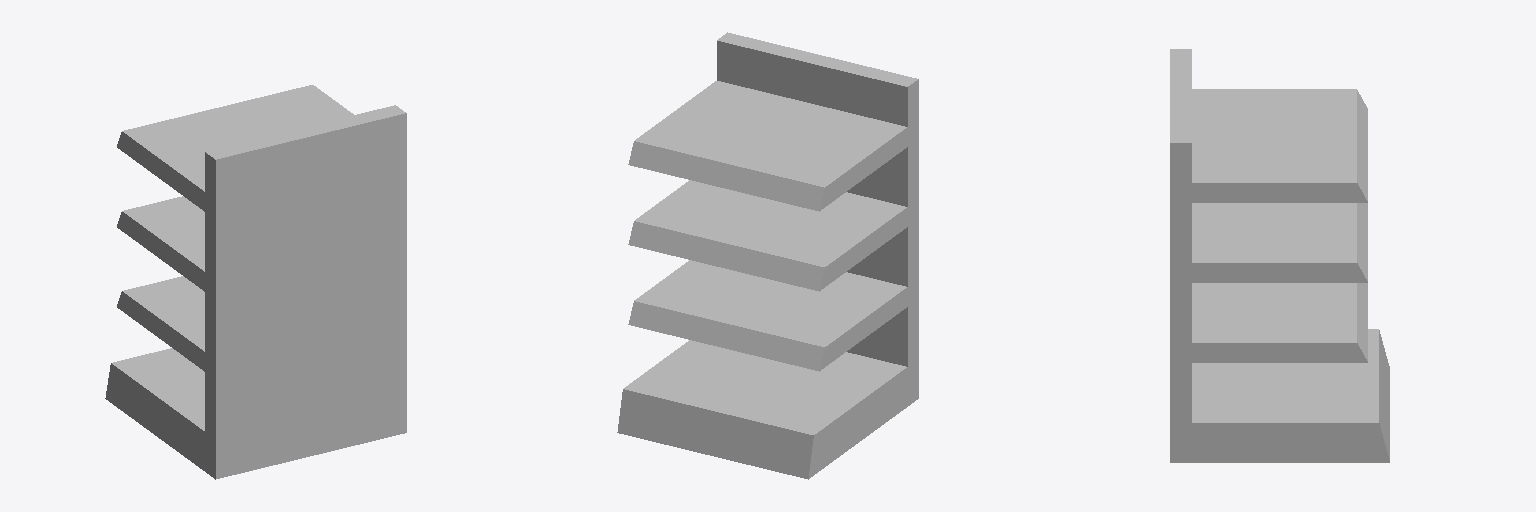
Rendered from ShelfModel.obj.
The picture shows the model from 3 angles: view 1: azimuth 30°, elevation 25°; view 2: azimuth 150°, elevation 25°; view 3: azimuth 270°, elevation 25°; orthographic projection.
Visible parts, largest first — view 1: ShelfModel; view 2: ShelfModel; view 3: ShelfModel.
Boxes of the visible parts, x1,y1,x2,y2 form: ShelfModel: [105, 85, 406, 479]; ShelfModel: [617, 32, 918, 479]; ShelfModel: [1170, 49, 1389, 462].
Bounding box in the file's own units: 1 × 1.6 × 1.